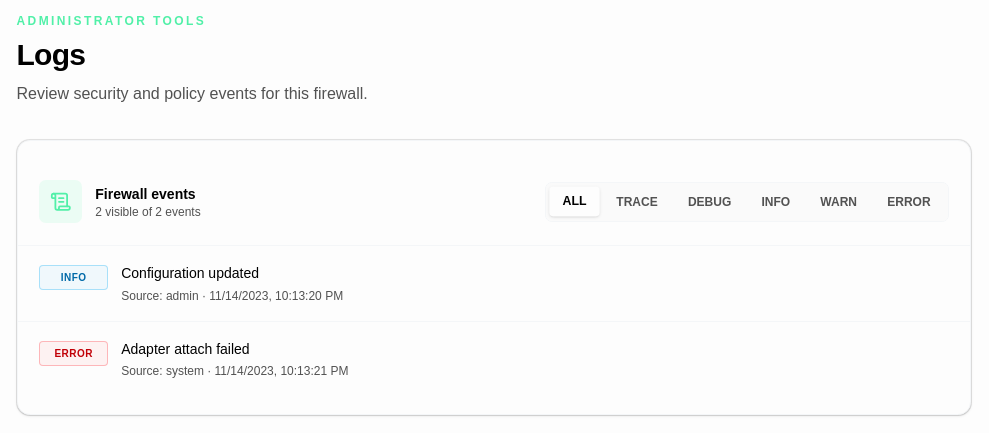
Logs › loads events, filters by level, and keeps the filtered count accurate
Check: the text "Configuration updated" is shown, box x1=121 y1=265 x2=259 y2=281
Check: the text "Adapter attach failed" is shown, box x1=121 y1=341 x2=250 y2=357
Click the button "ERROR".
click(909, 202)  # box x1=874 y1=187 x2=944 y2=216
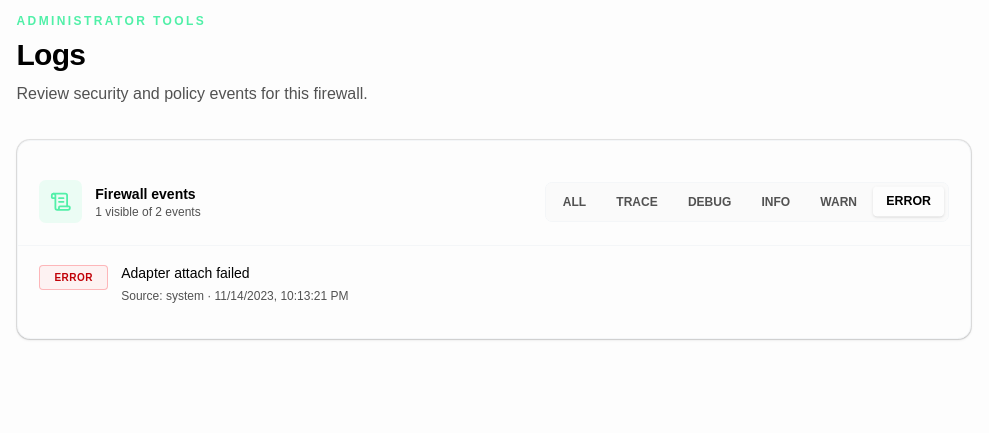
Check: the text "Adapter attach failed" is shown, box x1=121 y1=265 x2=250 y2=281
Check: the text "Configuration updated" is gone
Check: the text "1 visible of 2 events" is shown, box x1=95 y1=204 x2=201 y2=220
